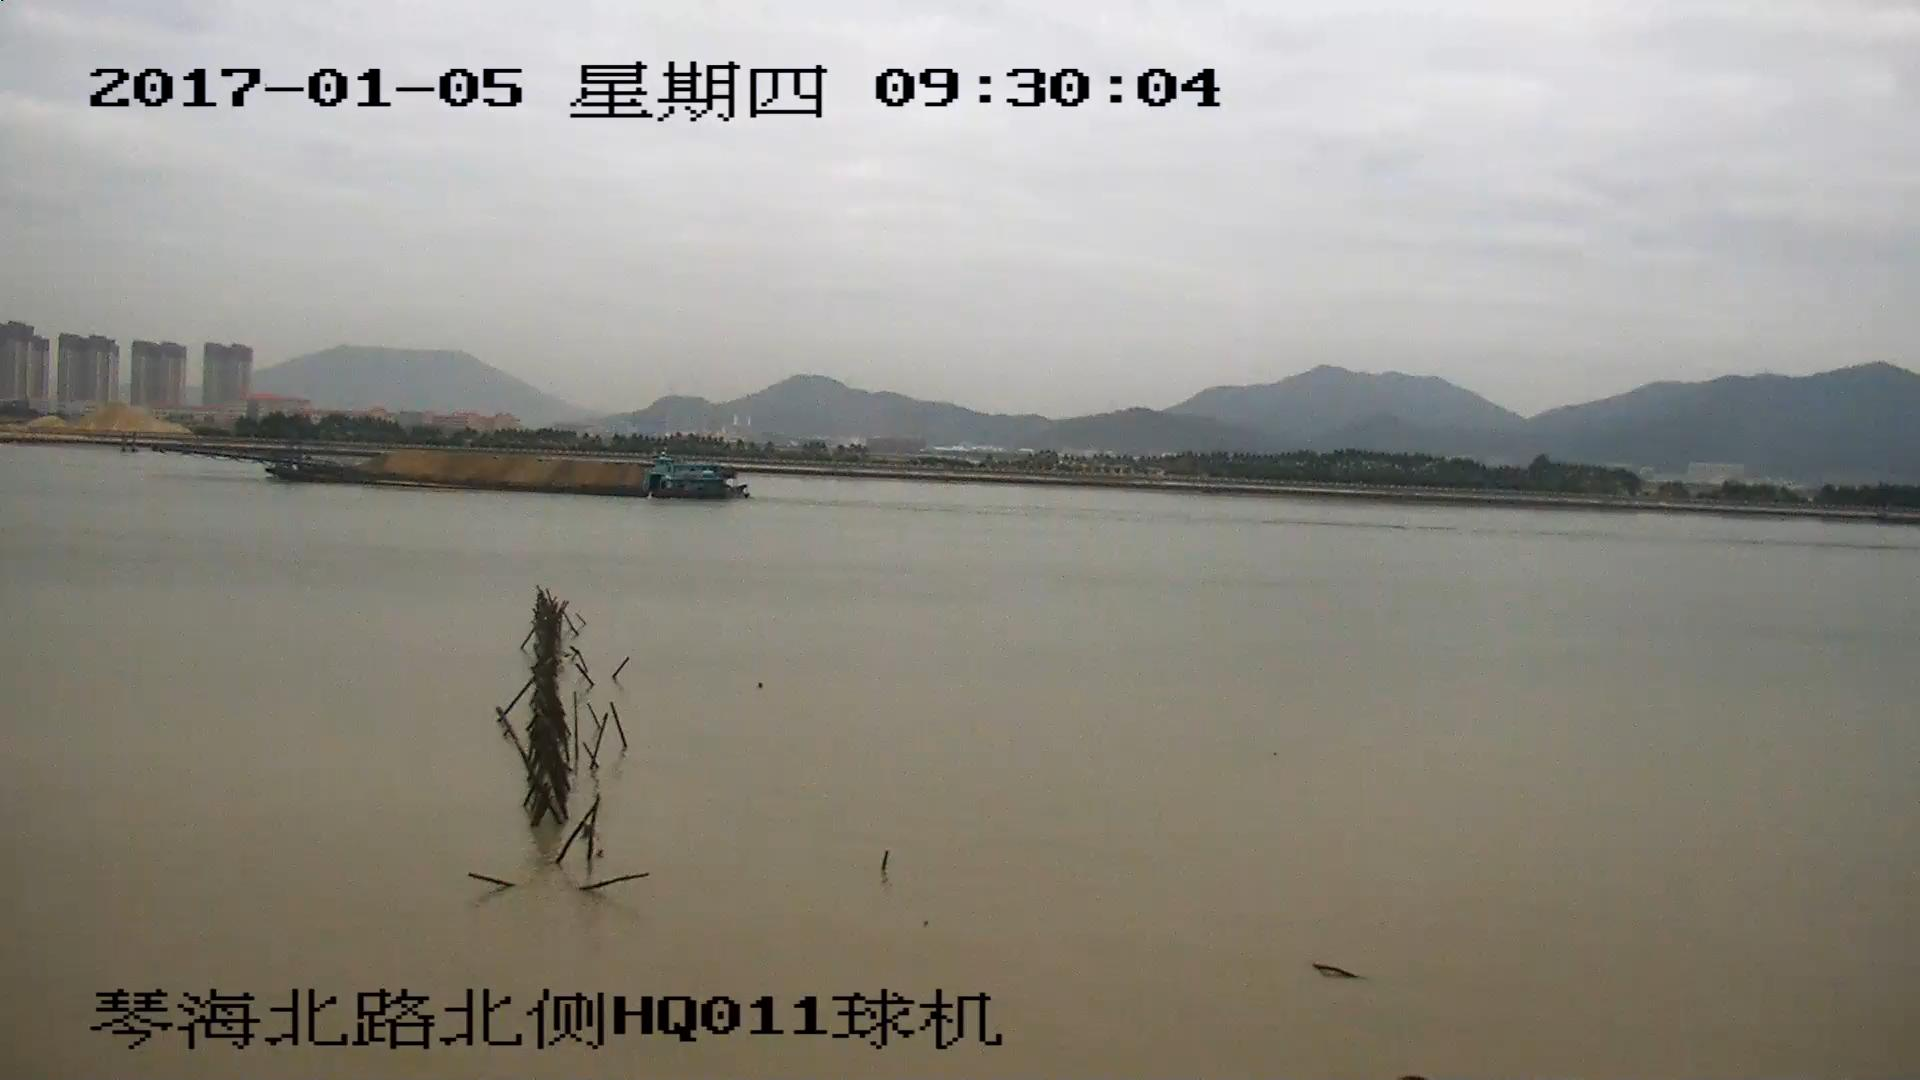ore carrier: (160, 438, 732, 494)
